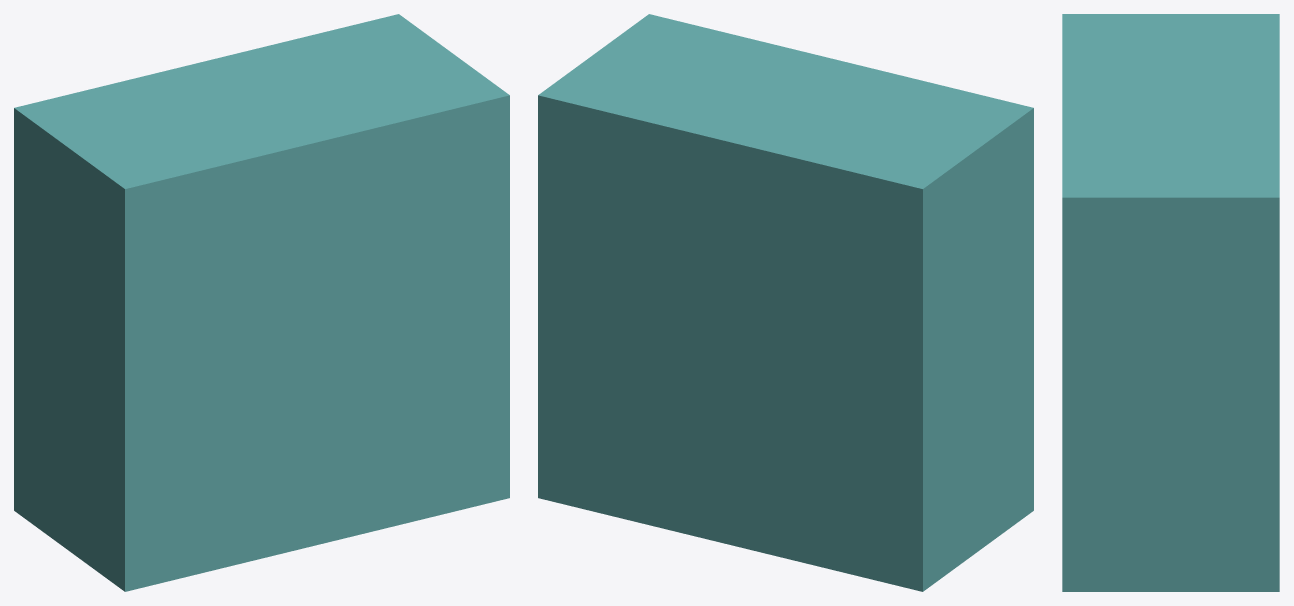
File: OneWay_VerticalSlab.glb
3 views of the same model, side by side, from view 1: azimuth 30°, elevation 25°; view 2: azimuth 150°, elevation 25°; view 3: azimuth 270°, elevation 25° (orthographic). The views are drawn at different scales.
Visible parts, largest first — view 1: OneWay_VerticalSlab_body; view 2: OneWay_VerticalSlab_body; view 3: OneWay_VerticalSlab_body.
Boxes of the visible parts, <box> form: OneWay_VerticalSlab_body: <box>14,14,509,591</box>; OneWay_VerticalSlab_body: <box>538,14,1033,591</box>; OneWay_VerticalSlab_body: <box>1062,14,1279,591</box>.
Size of the model in its own units: 1 by 1 by 0.5.
